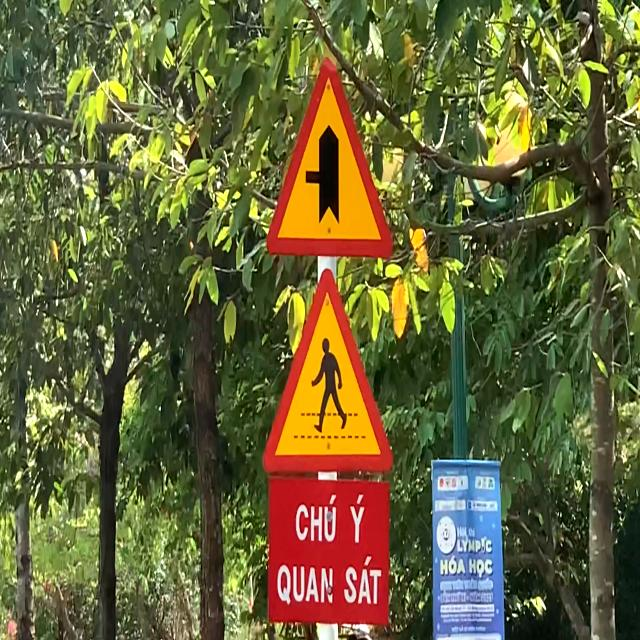W.207c: (265, 53, 395, 260)
W.224: (259, 264, 396, 476)
